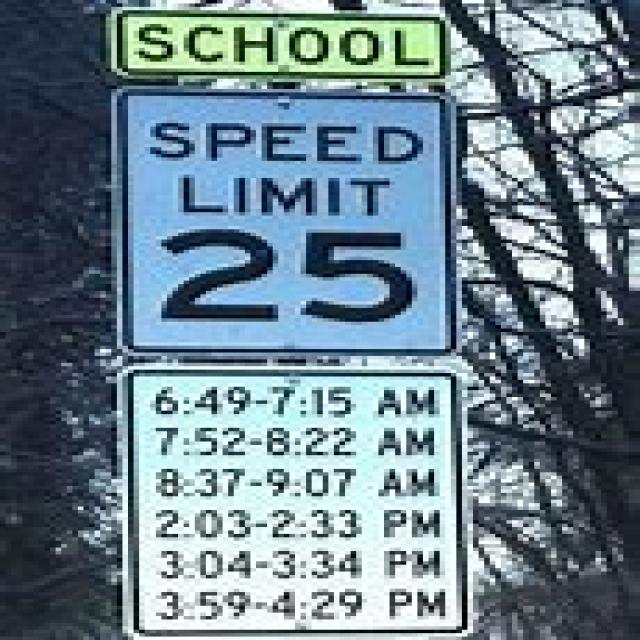speedLimit25: (114, 92, 454, 363)
